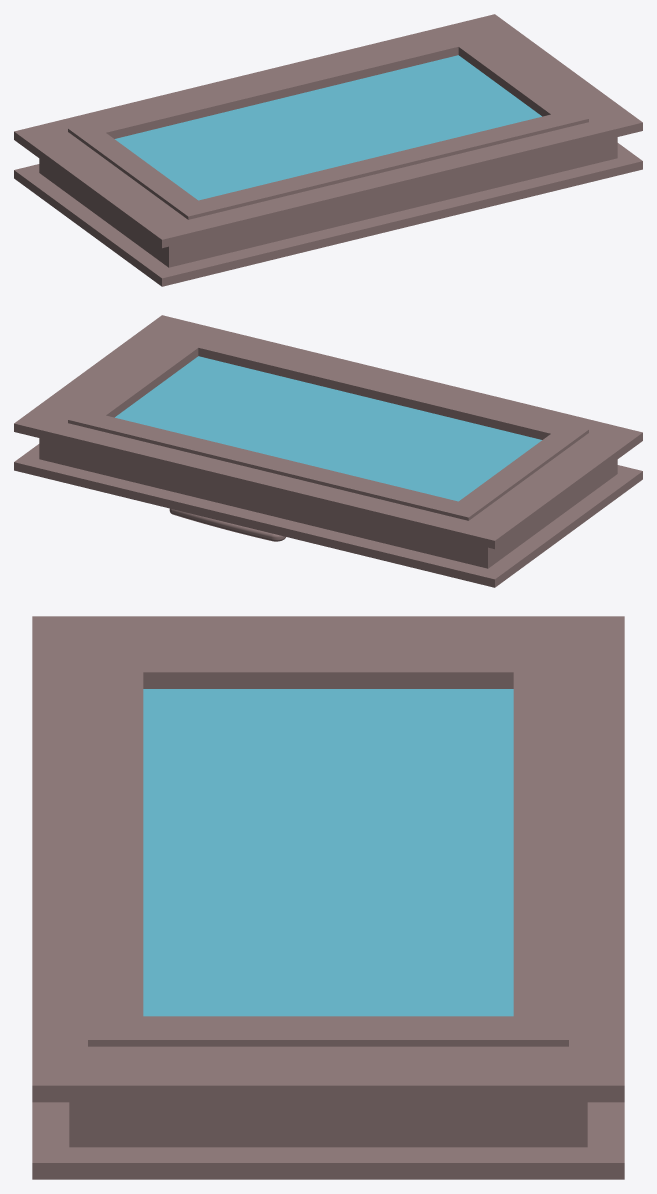
Rendered from 38 Series 1 Panel.fbx.
3 views of the same model, one above another, from view 1: azimuth 30°, elevation 25°; view 2: azimuth 150°, elevation 25°; view 3: azimuth 270°, elevation 25° (orthographic). The views are drawn at different scales.
Parts seen in each view (by area): view 1: Body8, Body3, Body1; view 2: Body8, Body3, Body1, Body7; view 3: Body8, Body3, Body1.
Part boxes in pixels (x1,y1,x2,y2): Body8: (14, 14, 642, 286); Body3: (115, 55, 541, 200); Body1: (68, 30, 588, 219); Body8: (14, 315, 642, 587); Body3: (115, 356, 541, 501); Body1: (68, 331, 588, 520); Body7: (169, 508, 285, 541); Body8: (32, 616, 624, 1179); Body3: (143, 689, 513, 1016); Body1: (88, 648, 568, 1046).
Size of the model in its own units: 30 by 4.5 by 16.
